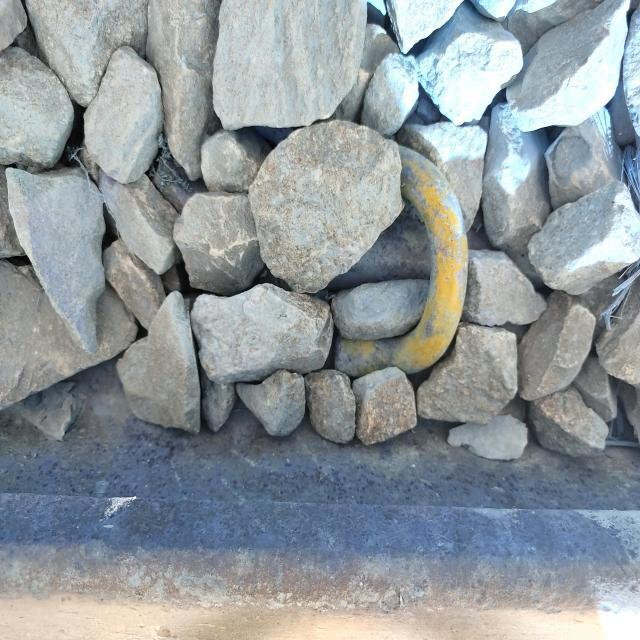Good Fasteners: (313, 127, 511, 393)
